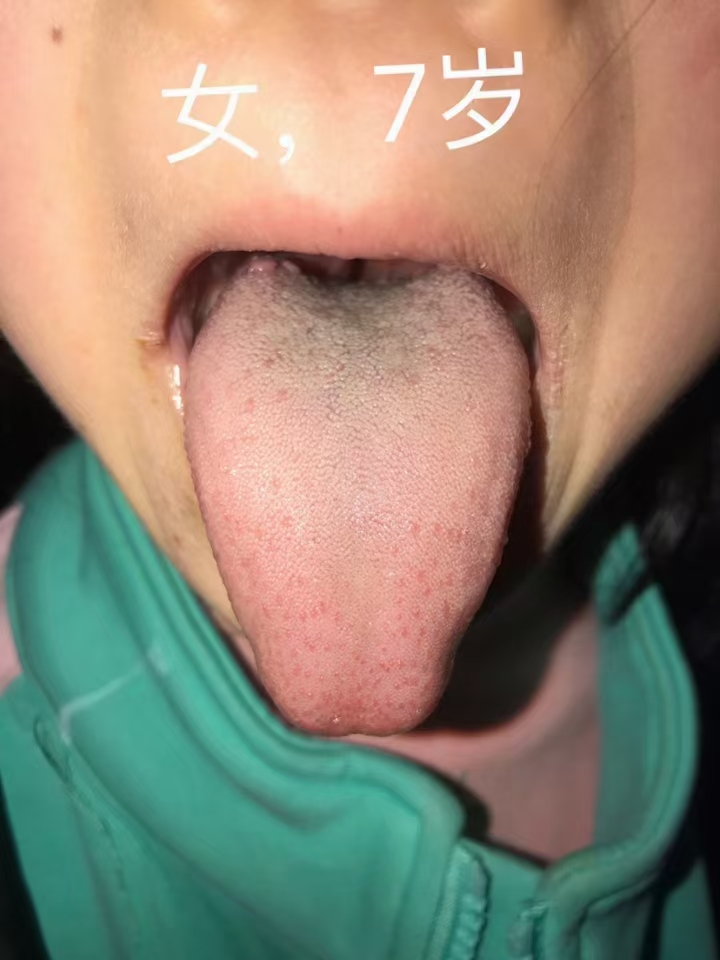baitaishe: (183, 252, 531, 736)
shenquao: (247, 253, 464, 313)
